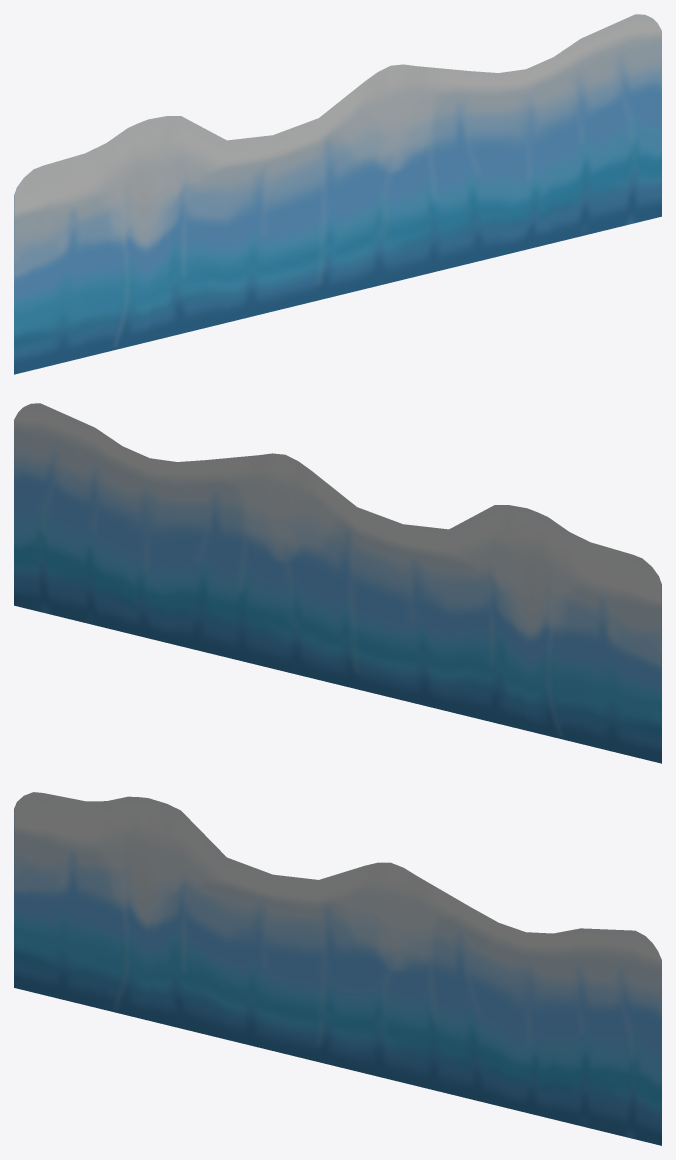
Rendered from wave.fbx.
The picture shows the model from 3 angles, top to bottom: view 1: azimuth 30°, elevation 25°; view 2: azimuth 150°, elevation 25°; view 3: azimuth 330°, elevation 25°; orthographic projection.
Parts seen in each view (by area): view 1: pPlane2; view 2: pPlane2; view 3: pPlane2.
Boxes of the visible parts, x1=… form: pPlane2: x1=14, y1=14, x2=661, y2=374; pPlane2: x1=14, y1=403, x2=661, y2=763; pPlane2: x1=14, y1=792, x2=661, y2=1145.
Size of the model in its own units: 7.96 by 2.61 by 3.81e-08.
1 material, 1 textured.
